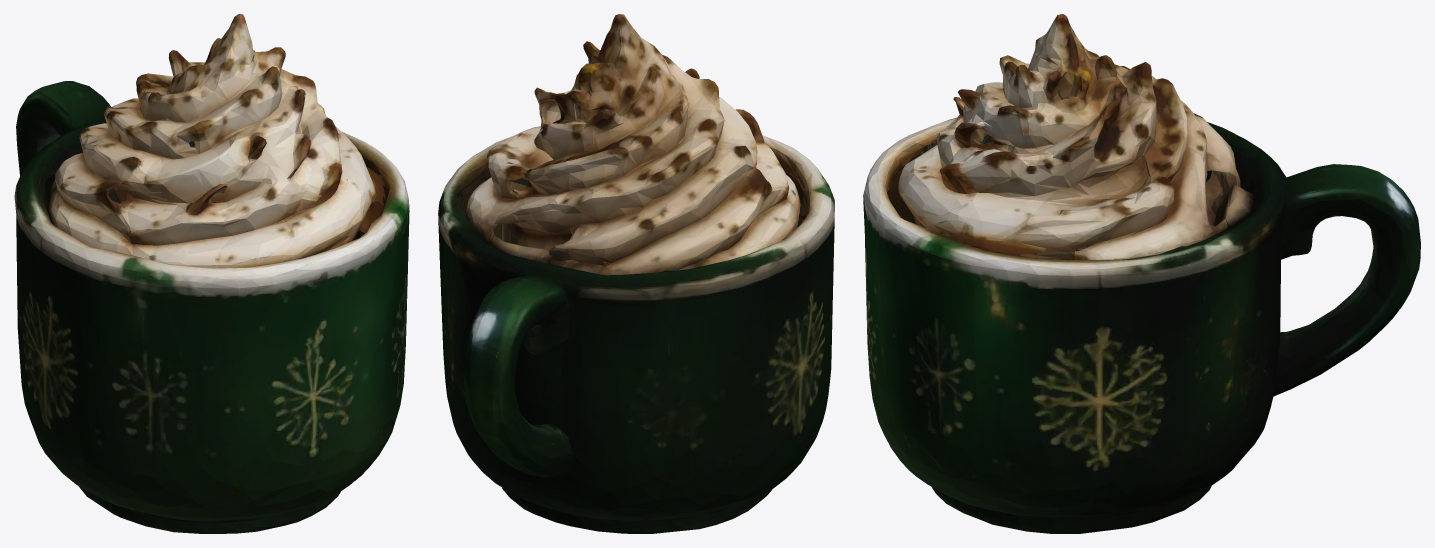
3 renders of one model, left to right at view 1: azimuth 30°, elevation 25°; view 2: azimuth 150°, elevation 25°; view 3: azimuth 270°, elevation 25°, orthographic. The views are drawn at different scales.
Visible parts, largest first — view 1: world; view 2: world; view 3: world.
Boxes of the visible parts, x1=… form: world: x1=14, y1=14, x2=409, y2=533; world: x1=438, y1=14, x2=834, y2=533; world: x1=863, y1=14, x2=1420, y2=533.
Bounding box in the file's own units: 0.726 × 0.9389 × 0.996.
Materials: 1 (1 with a texture image).
